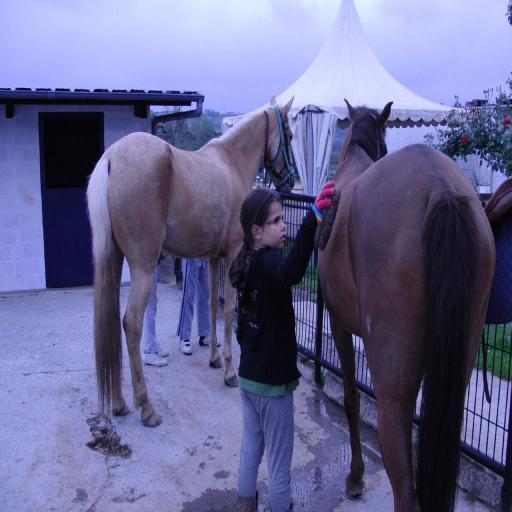horse: (313, 97, 497, 512), (85, 93, 298, 428)
